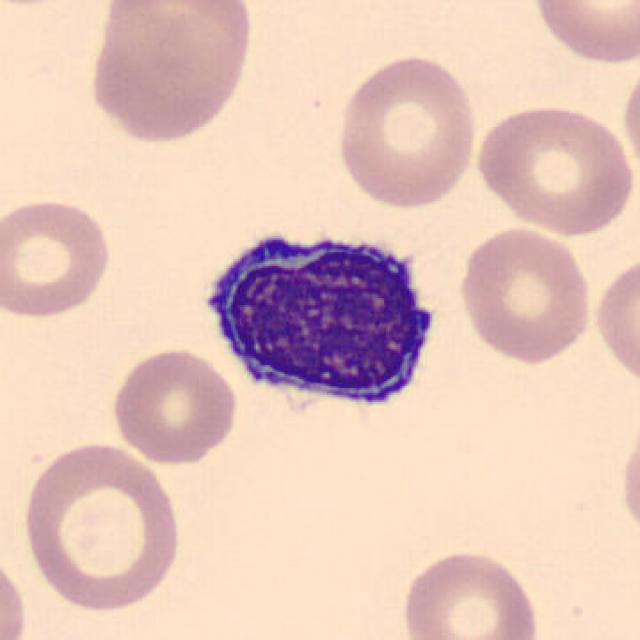Lymphocyte: (187, 210, 448, 441)
RBC: (16, 436, 190, 623), (85, 0, 255, 146), (332, 50, 480, 212), (470, 100, 637, 240), (454, 224, 598, 367), (105, 344, 240, 469), (0, 196, 114, 324), (395, 545, 544, 640), (55, 476, 148, 580), (525, 0, 639, 67), (592, 251, 638, 399), (618, 52, 640, 190)
